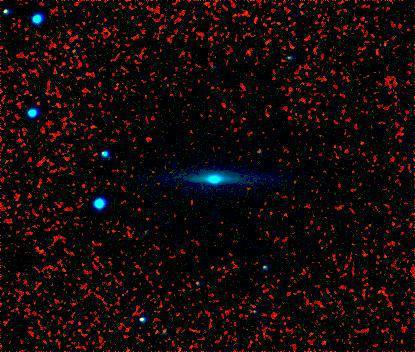star: (132, 123, 162, 153)
